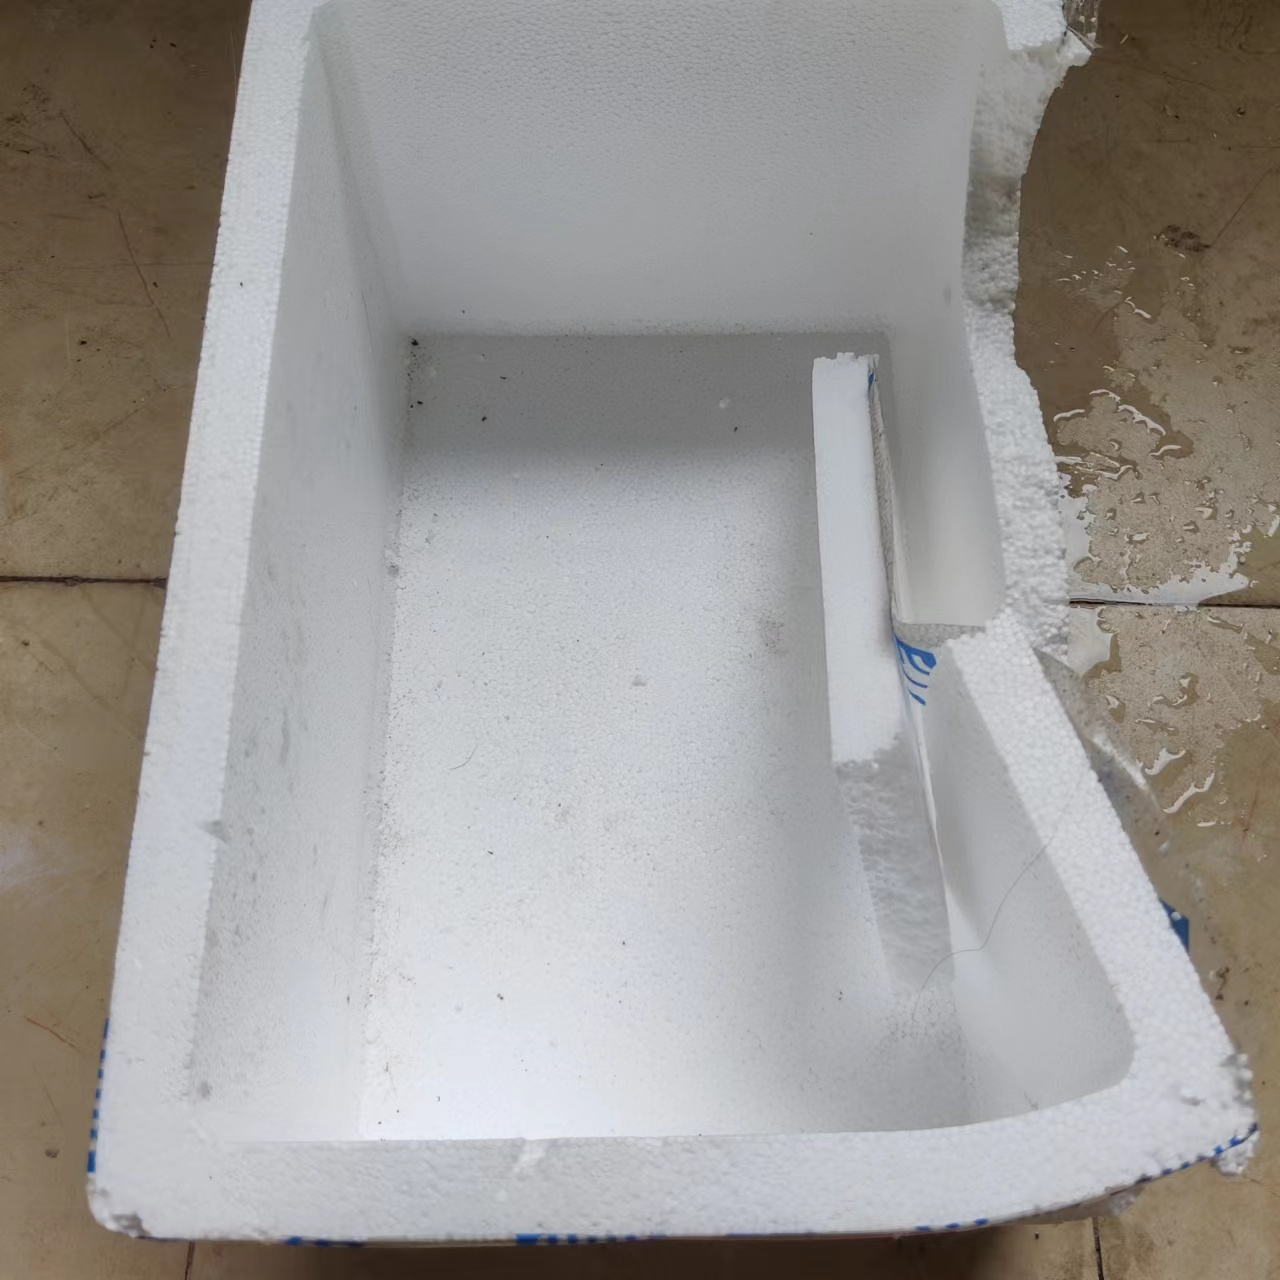5/可回收垃圾/泡沫: (83, 1, 1260, 1242)
